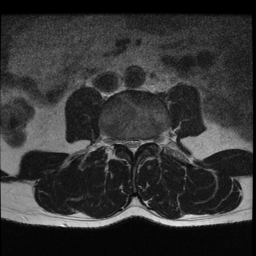CCS_normal: (130, 130, 136, 160)
LFS_stenosis: (142, 132, 149, 150)
LLS_stenosis: (136, 131, 142, 152)
RFS_stenosis: (115, 130, 122, 151)
RLS_stenosis: (123, 132, 130, 154)
